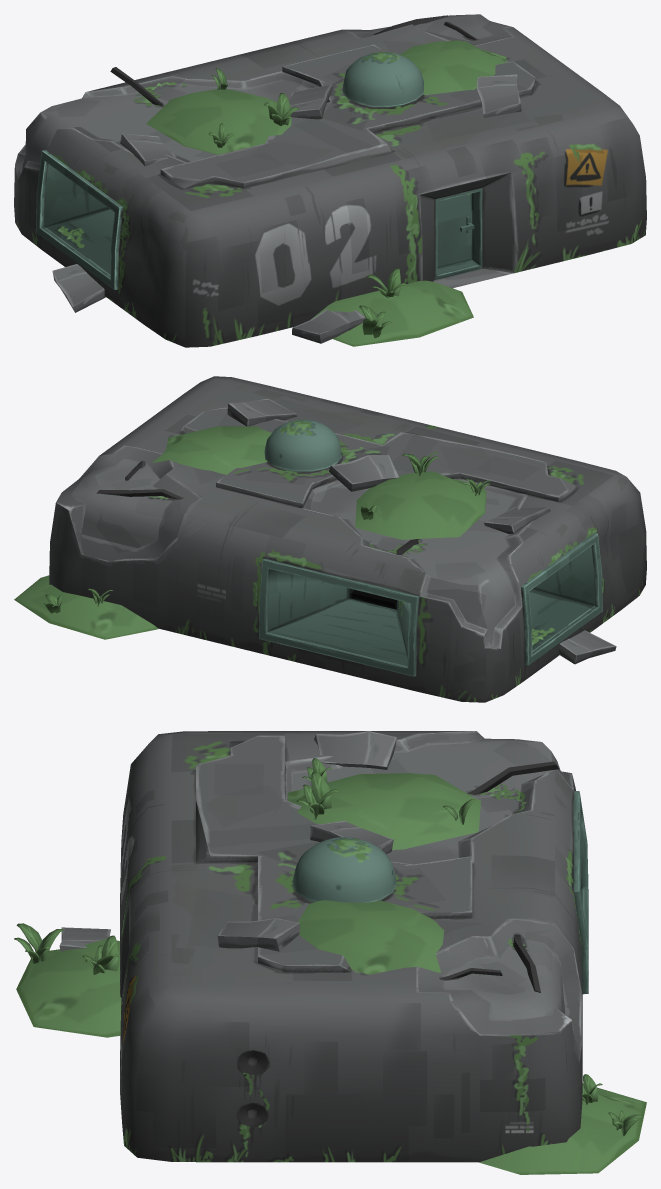
Rendered from Bunker2.glb.
3 views of the same model, one above another, from view 1: azimuth 30°, elevation 25°; view 2: azimuth 150°, elevation 25°; view 3: azimuth 270°, elevation 25° (orthographic). The views are drawn at different scales.
Parts seen in each view (by area): view 1: Bunker2; view 2: Bunker2; view 3: Bunker2.
Part boxes in pixels (<box>): Bunker2: <box>14,14,646,347</box>; Bunker2: <box>14,376,646,702</box>; Bunker2: <box>14,731,646,1174</box>.
Size of the model in its own units: 13.59 by 4.18 by 11.19.
1 material, 1 textured.
